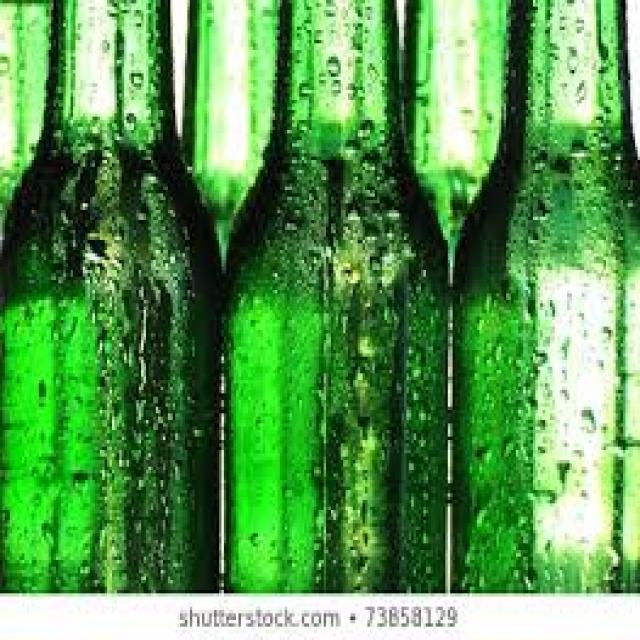Glass: (221, 0, 450, 589), (0, 0, 224, 592)
